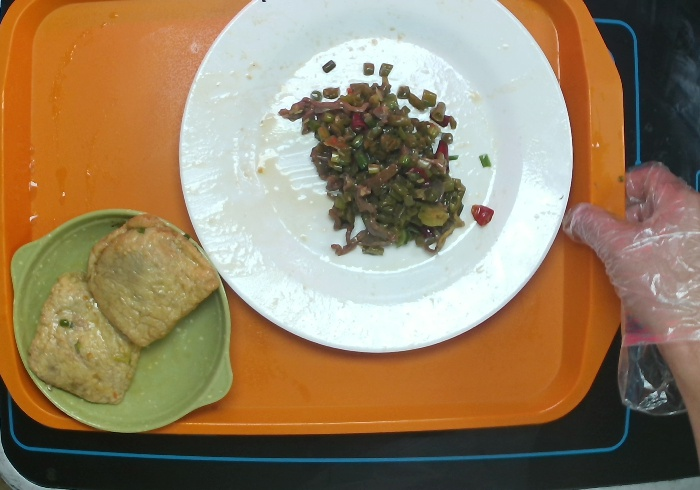NLDX-Da_Yuan_Pan: (178, 1, 580, 370)
NLDX-Lv_Hua_Shuang_Er_Die: (4, 207, 235, 430)
